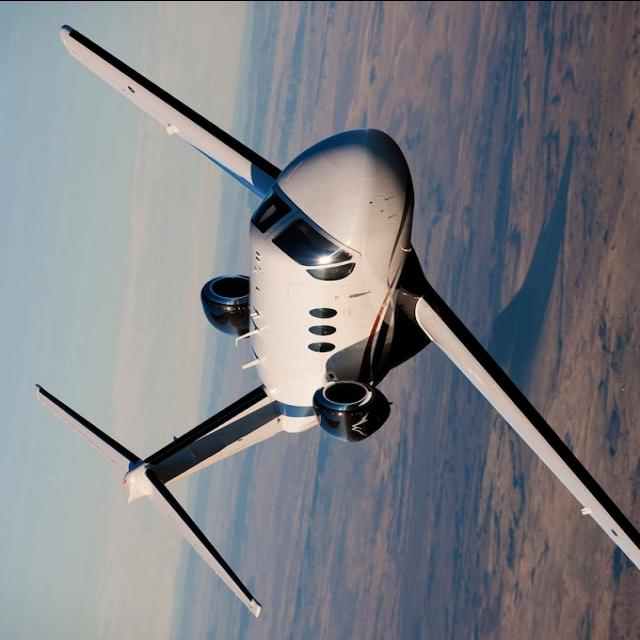jet: (28, 6, 640, 640)
